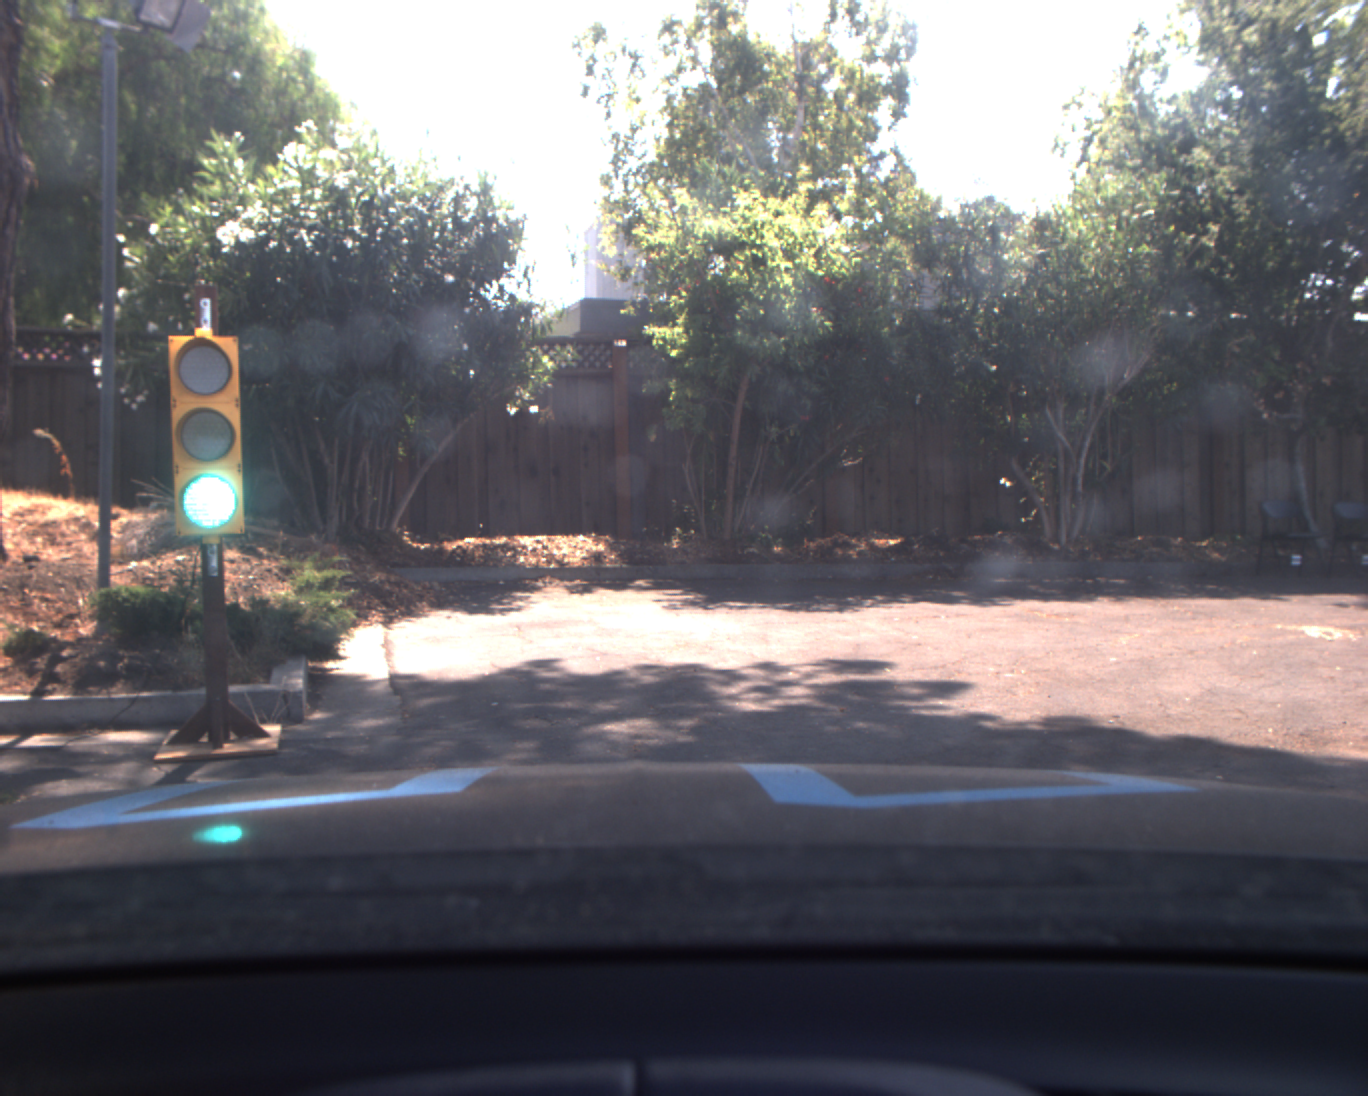green: (166, 330, 249, 540)
